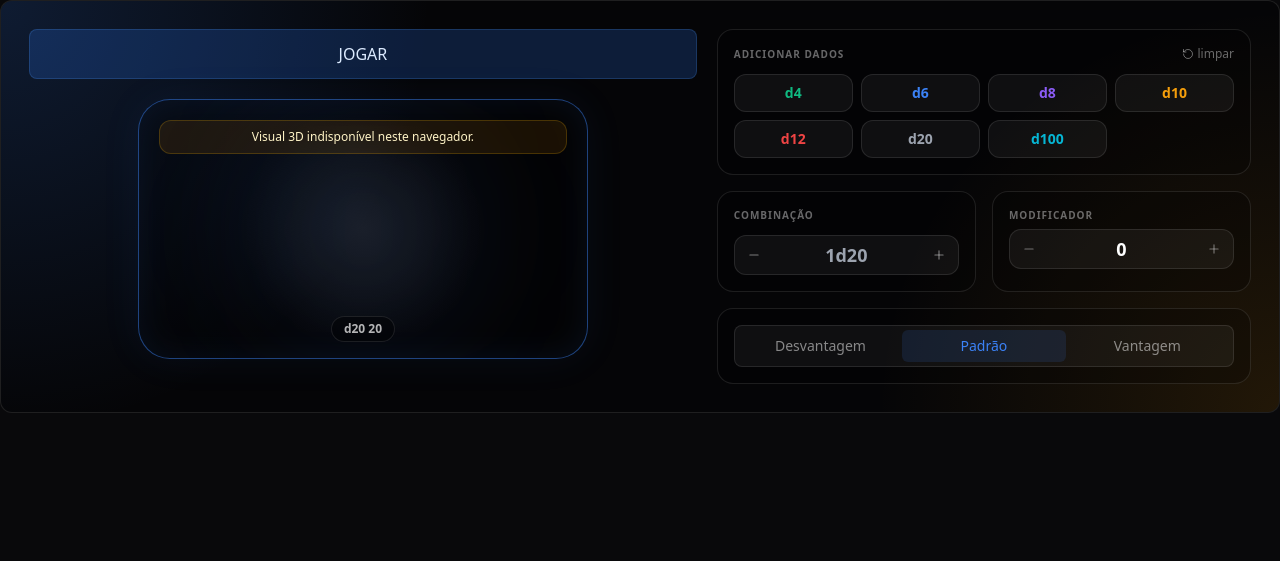
it: DiceRollerPanel › keeps the numeric result visible when the 3D stage cannot initialize
Check: the text "Visual 3D indisponível neste navegador." is shown, box x1=159 y1=120 x2=567 y2=154
Click the button "JOGAR" at point(363, 54), box x1=29 y1=29 x2=697 y2=79
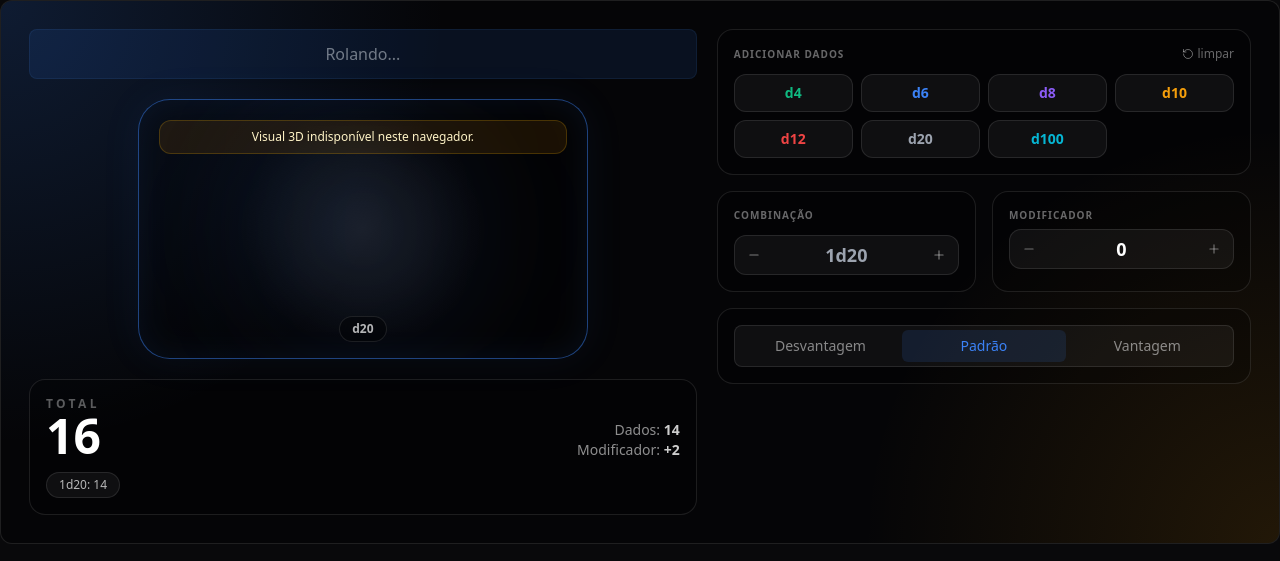
Check: the text "16" is shown, box x1=46 y1=412 x2=101 y2=460
